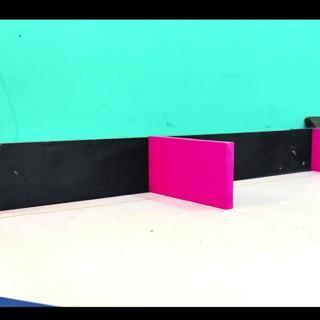xparking: (152, 144, 232, 203), (314, 134, 318, 174)
